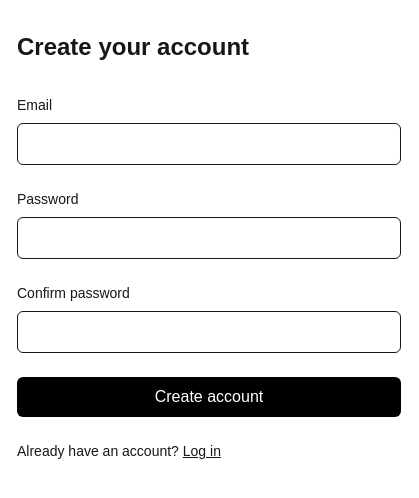
Scenario: Registration page › rejects mismatched passwords without contacting Supabase
Type "sean@example.com" into the field labelled "Email". click: (209, 144)
box: x1=17 y1=123 x2=401 y2=165
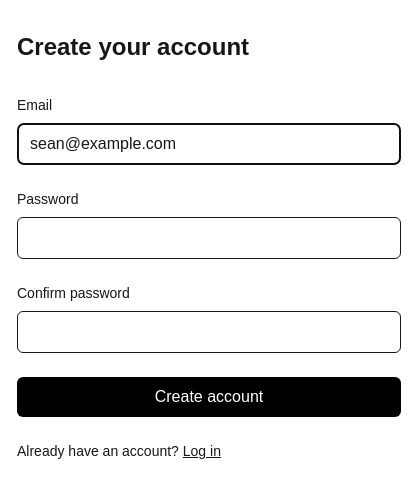
Type "secret-password" into the password field labelled "Password". click: (209, 238)
box: x1=17 y1=217 x2=401 y2=259
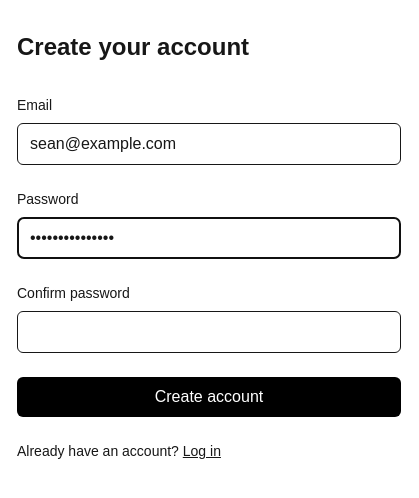
Type "different-password" into the password field labelled "Confirm password". click: (209, 332)
box: x1=17 y1=311 x2=401 y2=353
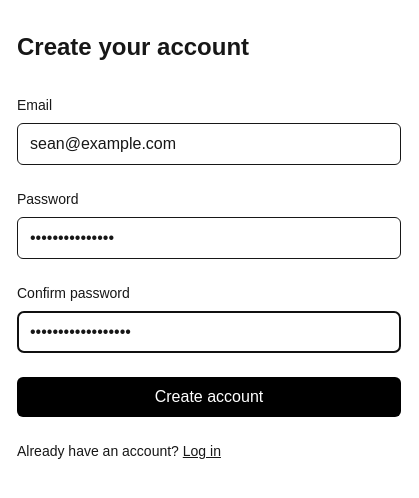
Click the button "Create account". click: click(209, 397)
box: x1=17 y1=377 x2=401 y2=417
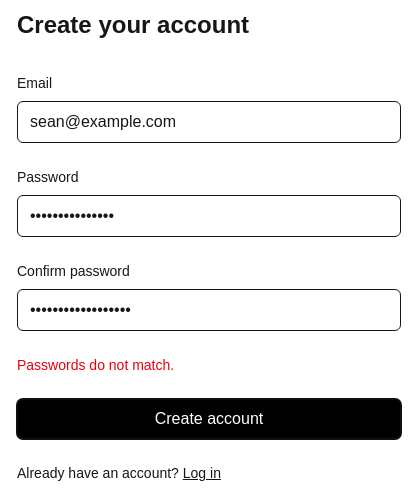
Check: the message reads "Passwords do not match.", box x1=17 y1=357 x2=174 y2=373
